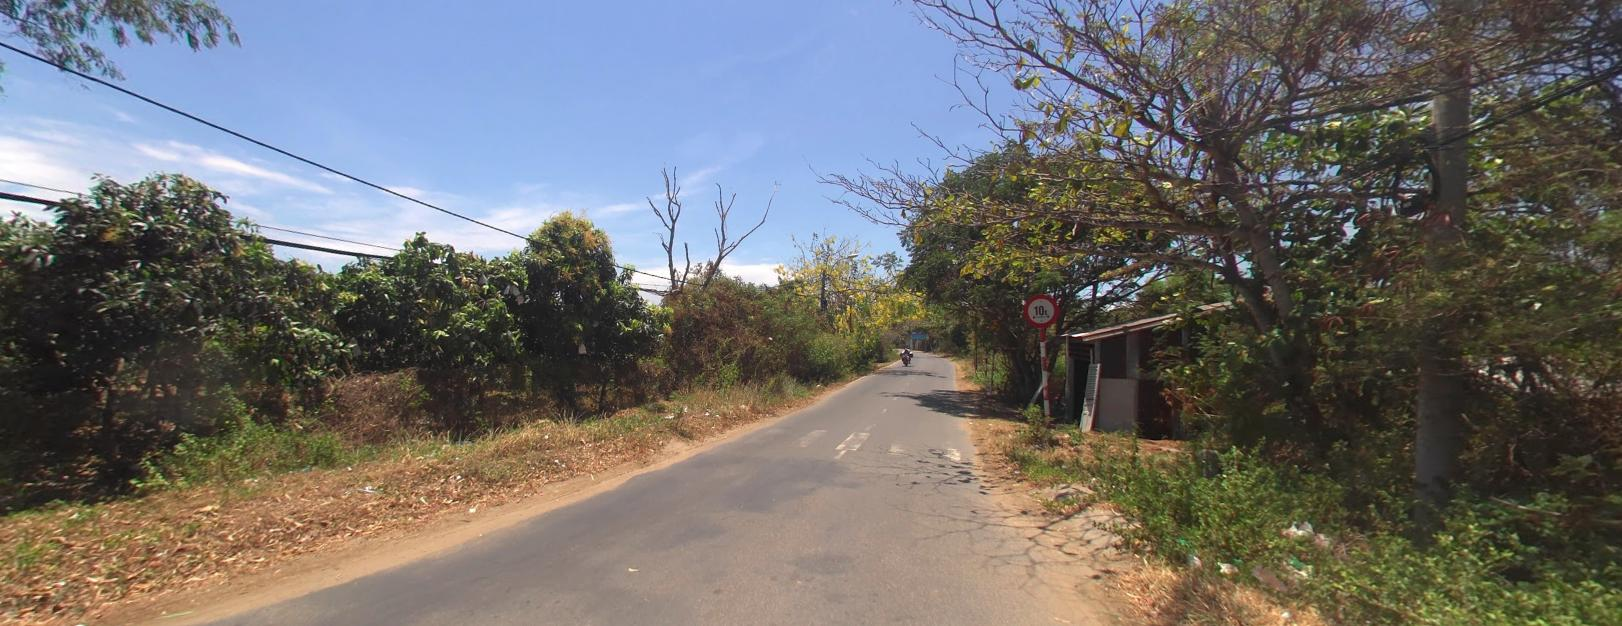Cam con lai: (1023, 292, 1058, 325)
